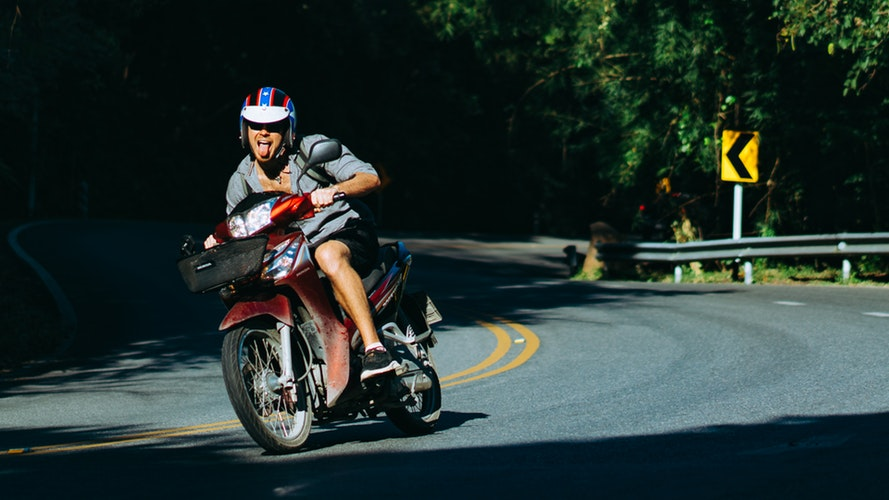helmet: (242, 83, 297, 146)
